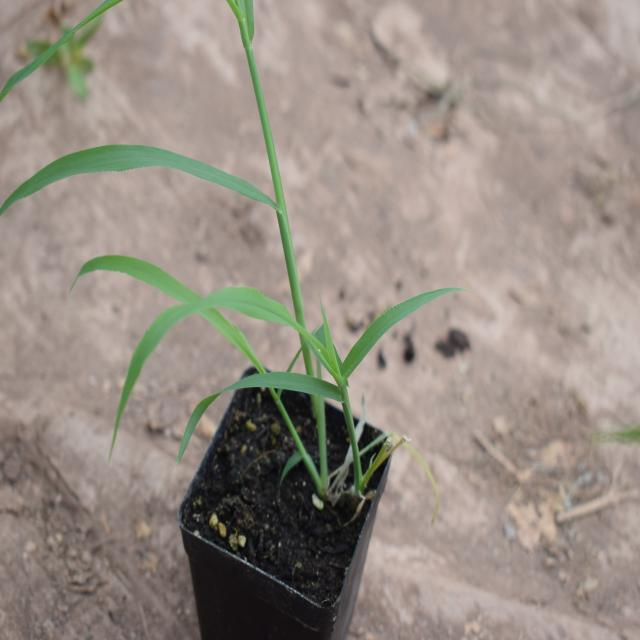crabgrass: (75, 226, 421, 497)
